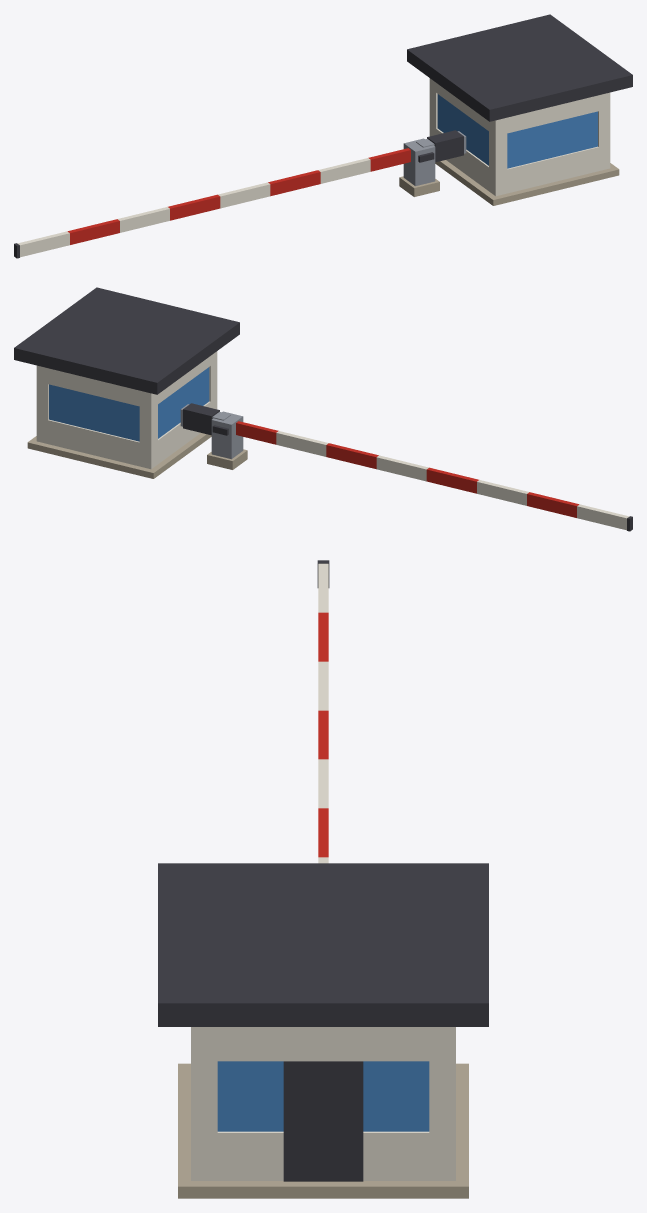
File: Kit_GuardPost.glb
The picture shows the model from 3 angles, top to bottom: view 1: azimuth 30°, elevation 25°; view 2: azimuth 150°, elevation 25°; view 3: azimuth 270°, elevation 25°; orthographic projection. The views are drawn at different scales.
Parts seen in each view (by area): view 1: Kit_GuardPost, Kit_GuardPost_Arm; view 2: Kit_GuardPost, Kit_GuardPost_Arm; view 3: Kit_GuardPost, Kit_GuardPost_Arm.
Part boxes in pixels (x1=…): Kit_GuardPost: x1=399, y1=14, x2=632, y2=205; Kit_GuardPost_Arm: x1=14, y1=130, x2=466, y2=258; Kit_GuardPost: x1=14, y1=287, x2=247, y2=478; Kit_GuardPost_Arm: x1=180, y1=403, x2=632, y2=531; Kit_GuardPost: x1=158, y1=863, x2=488, y2=1198; Kit_GuardPost_Arm: x1=317, y1=560, x2=329, y2=863.
Bounding box in the file's own units: 20.1 × 3.4 × 5.
